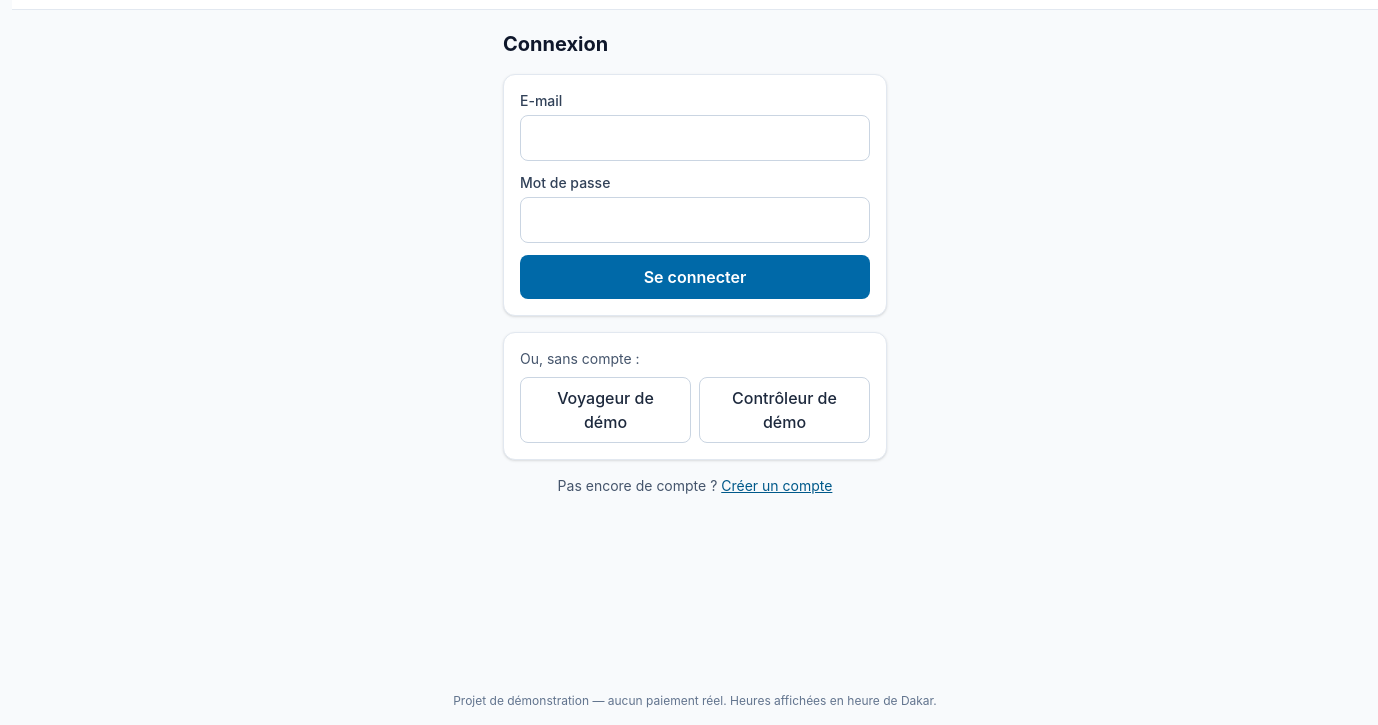
Test: connexion › ignore une redirection vers un autre site
The width and height of the screenshot is (1378, 725).
Type "c@example.com" into the field labelled "E-mail" at (695, 138), box [520,115,870,161]
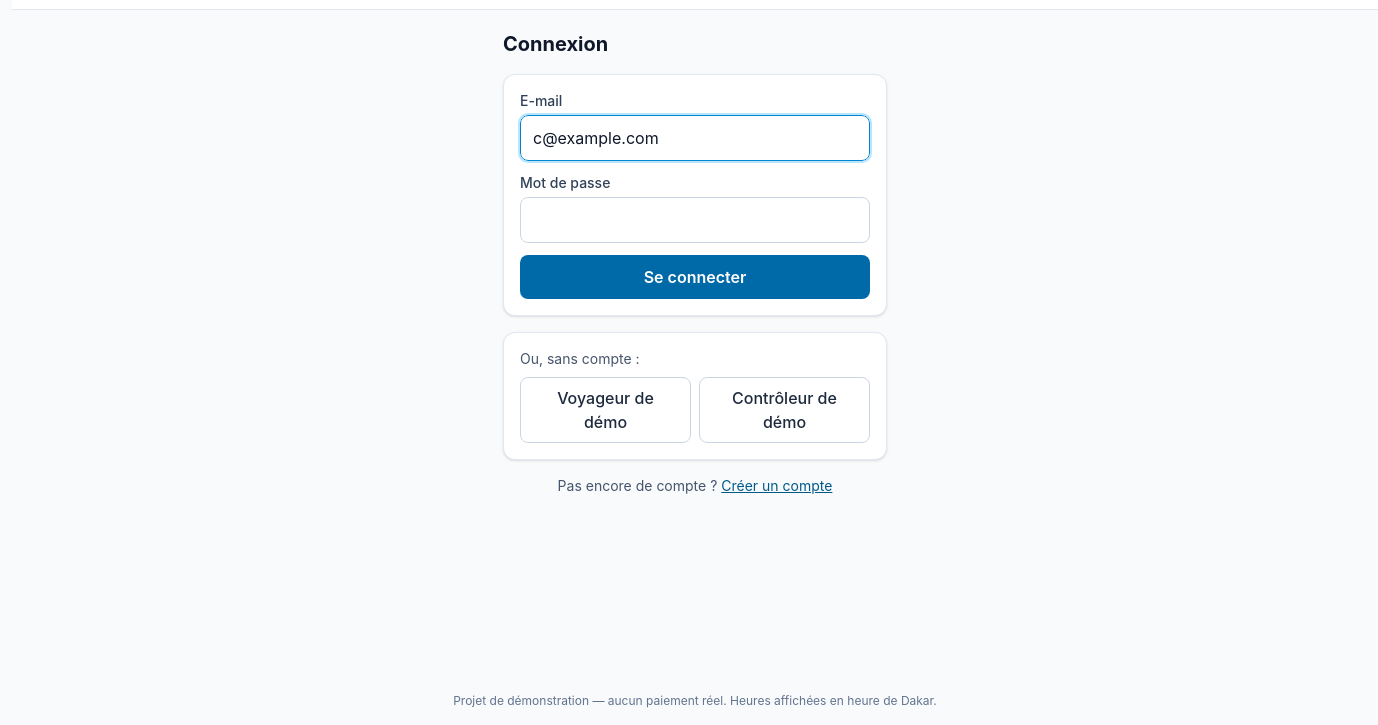
Type "motdepasse" into the password field labelled "Mot de passe" at (695, 220), box [520,197,870,243]
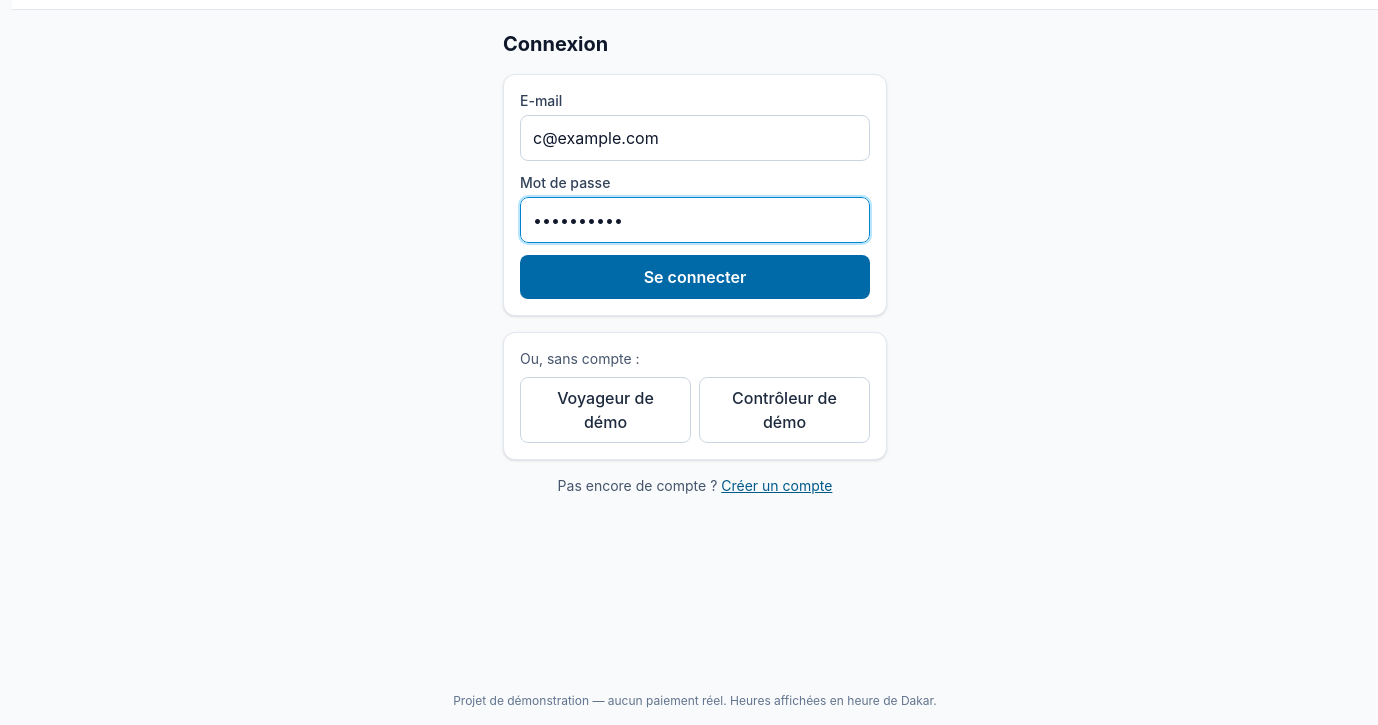
Click the button "Se connecter" at (695, 277), box [520,255,870,299]
(page scrolled)
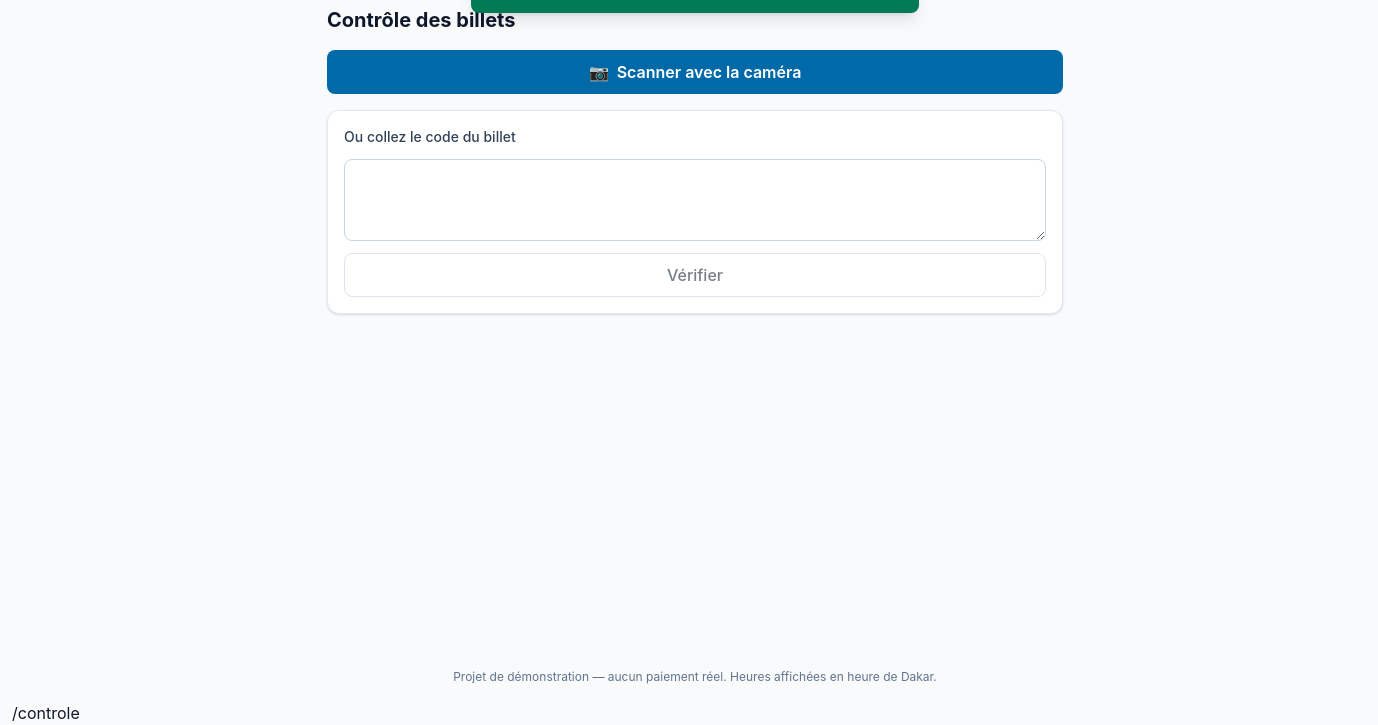
Now the text with test id "location" reads "/controle", box [12,703,80,723]
